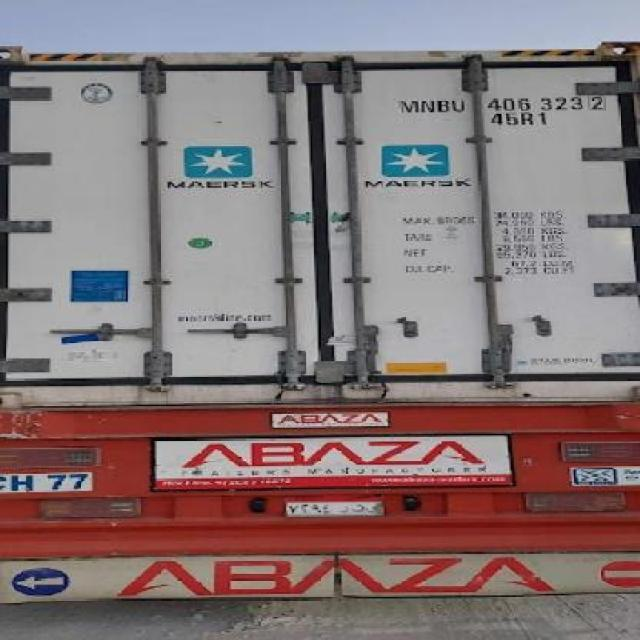ISO: (492, 114, 548, 126)
container_number: (402, 94, 612, 115)
